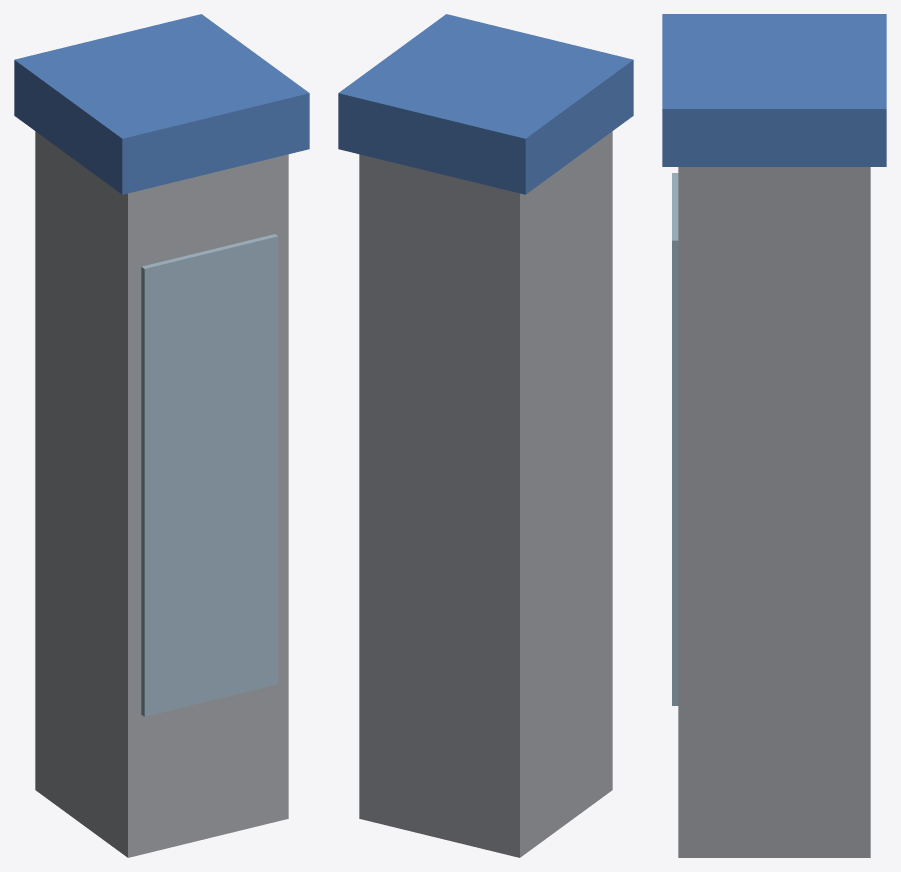
File: Telefon_Kulubesi.glb
The picture shows the model from 3 angles, left to right: view 1: azimuth 30°, elevation 25°; view 2: azimuth 150°, elevation 25°; view 3: azimuth 270°, elevation 25°; orthographic projection. The views are drawn at different scales.
Visible parts, largest first — view 1: Telefon_Kulubesi; view 2: Telefon_Kulubesi; view 3: Telefon_Kulubesi.
Boxes of the visible parts, bbox=[...] form: Telefon_Kulubesi: bbox=[14, 14, 309, 857]; Telefon_Kulubesi: bbox=[338, 14, 633, 857]; Telefon_Kulubesi: bbox=[662, 14, 886, 857].
Bounding box in the file's own units: 0.7 × 2.6 × 0.7.
